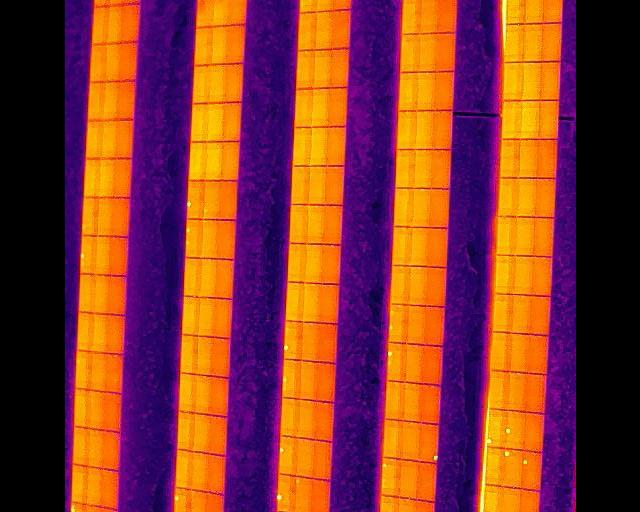Cell: (520, 450, 540, 490), (502, 449, 522, 488), (277, 436, 297, 475), (504, 411, 524, 449), (417, 425, 437, 463), (282, 321, 301, 359), (486, 410, 504, 449), (276, 474, 294, 512), (202, 181, 219, 220), (74, 352, 90, 390), (187, 181, 203, 218), (293, 478, 310, 512), (483, 485, 502, 512), (194, 0, 212, 28), (188, 491, 206, 512), (174, 487, 189, 512)
Cell-Multi: (281, 359, 300, 399), (388, 304, 406, 343), (380, 457, 397, 496), (387, 342, 403, 381), (185, 219, 201, 258), (80, 237, 96, 276), (69, 503, 85, 512), (94, 0, 110, 8)
No-Anomaly: (284, 281, 305, 324), (427, 189, 448, 229), (300, 281, 320, 322), (390, 227, 411, 266), (541, 23, 562, 62), (396, 460, 417, 499), (175, 374, 195, 414), (506, 372, 526, 411), (534, 179, 554, 218), (395, 111, 415, 150), (426, 228, 446, 267), (399, 421, 419, 460), (433, 72, 453, 111), (522, 24, 542, 63), (414, 464, 435, 501), (540, 63, 560, 101), (532, 256, 551, 296), (280, 397, 299, 437), (509, 294, 528, 334), (503, 63, 522, 103), (488, 372, 508, 410), (318, 323, 337, 363), (399, 33, 418, 73), (419, 384, 438, 424), (429, 150, 448, 190), (315, 401, 334, 440), (322, 206, 341, 245), (490, 333, 509, 372), (290, 166, 309, 205), (293, 89, 312, 128), (483, 447, 502, 486), (536, 139, 555, 178), (539, 101, 558, 140), (325, 127, 344, 166), (294, 439, 313, 478), (499, 140, 518, 179), (315, 362, 334, 401), (311, 50, 330, 89), (533, 218, 552, 257), (501, 101, 520, 140), (397, 72, 416, 111), (431, 111, 450, 150), (420, 346, 439, 385), (529, 296, 548, 335), (400, 382, 419, 421), (425, 267, 444, 306), (519, 101, 538, 140), (409, 189, 428, 228), (523, 413, 543, 450), (191, 375, 209, 416), (297, 13, 316, 51), (512, 257, 531, 295), (413, 111, 432, 149), (219, 142, 237, 182), (293, 127, 311, 167), (295, 51, 313, 91), (312, 440, 330, 480), (212, 299, 230, 339), (181, 297, 199, 337), (412, 149, 430, 189), (528, 335, 546, 375), (408, 227, 426, 267), (435, 33, 453, 73), (210, 339, 229, 376), (516, 179, 534, 218), (206, 416, 224, 455), (75, 313, 93, 352), (498, 179, 516, 218), (298, 400, 316, 439), (514, 218, 532, 257), (518, 140, 536, 179), (224, 25, 242, 64), (320, 245, 338, 284), (203, 142, 221, 181), (324, 166, 342, 205), (206, 455, 224, 494), (407, 266, 425, 305), (188, 142, 206, 181), (526, 374, 544, 413), (389, 266, 407, 305), (192, 27, 210, 66), (416, 72, 434, 111), (423, 307, 441, 346), (191, 65, 209, 104), (331, 10, 349, 49), (392, 188, 410, 227), (381, 420, 399, 459), (330, 49, 348, 88), (113, 158, 130, 199), (309, 479, 330, 512), (288, 205, 306, 243), (497, 218, 515, 256), (504, 24, 522, 62), (287, 243, 305, 281), (406, 305, 424, 343), (522, 63, 540, 101), (118, 43, 136, 81), (88, 45, 106, 83), (301, 321, 318, 361), (309, 127, 326, 167), (205, 103, 222, 143), (189, 103, 206, 143), (418, 33, 435, 73), (175, 411, 192, 451), (173, 451, 191, 488), (201, 220, 218, 259), (314, 11, 331, 50), (510, 334, 527, 373), (310, 88, 327, 127), (495, 256, 512, 295), (208, 25, 225, 64), (305, 205, 322, 244), (492, 294, 509, 333), (214, 259, 231, 298), (303, 244, 320, 283), (183, 259, 200, 298), (404, 344, 421, 383), (327, 88, 344, 127), (180, 336, 197, 375), (394, 149, 411, 188), (384, 382, 401, 421), (88, 353, 105, 392), (208, 377, 225, 415), (77, 275, 94, 313), (222, 63, 238, 103), (222, 102, 238, 142), (83, 159, 99, 199), (101, 82, 117, 122), (103, 393, 120, 430), (308, 166, 324, 205), (71, 464, 87, 503), (217, 220, 233, 259), (219, 181, 235, 220), (101, 431, 117, 470), (107, 315, 123, 354), (117, 82, 133, 121), (199, 259, 215, 298), (190, 452, 206, 491), (91, 314, 107, 353), (105, 354, 121, 393), (300, 362, 316, 400), (85, 121, 101, 159), (81, 199, 97, 237), (122, 5, 138, 43), (106, 6, 122, 44), (109, 275, 124, 315), (197, 297, 212, 337), (436, 0, 453, 35), (401, 0, 419, 33), (418, 0, 436, 33), (90, 8, 106, 45), (320, 284, 335, 323), (73, 389, 88, 428), (87, 82, 102, 121), (94, 275, 109, 314), (192, 415, 207, 454), (98, 159, 113, 198), (196, 337, 211, 376), (112, 199, 127, 237), (87, 467, 102, 505), (104, 44, 119, 82), (109, 237, 124, 275), (88, 392, 103, 430), (115, 121, 130, 158), (209, 63, 223, 102), (97, 197, 111, 236), (95, 236, 109, 275), (102, 469, 116, 508), (87, 429, 101, 468), (100, 121, 114, 159), (500, 486, 519, 512), (74, 428, 87, 466), (542, 0, 562, 24), (523, 0, 542, 25), (506, 0, 524, 26), (209, 0, 226, 27), (518, 490, 538, 512), (226, 0, 242, 26), (205, 493, 223, 512), (378, 496, 398, 512), (299, 0, 317, 14), (396, 498, 414, 512), (332, 0, 351, 11), (413, 501, 432, 512), (316, 0, 332, 13)
